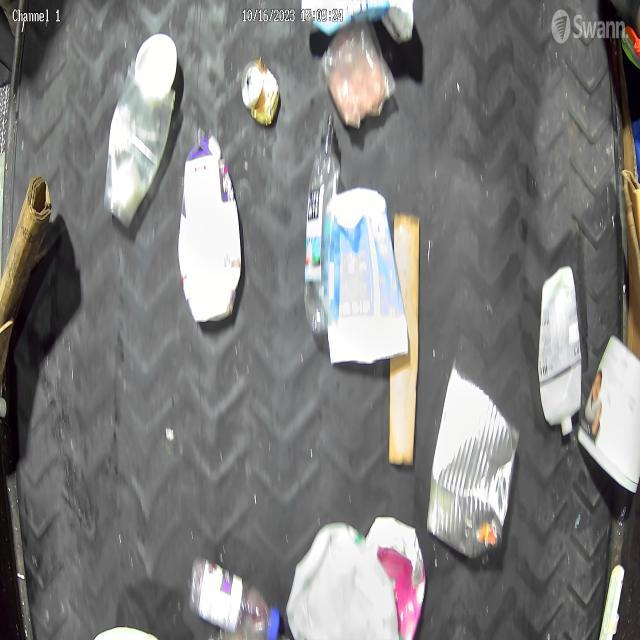can: (239, 58, 280, 132)
milk_jug: (288, 526, 400, 640)
plastic_bottle: (191, 562, 279, 640)
